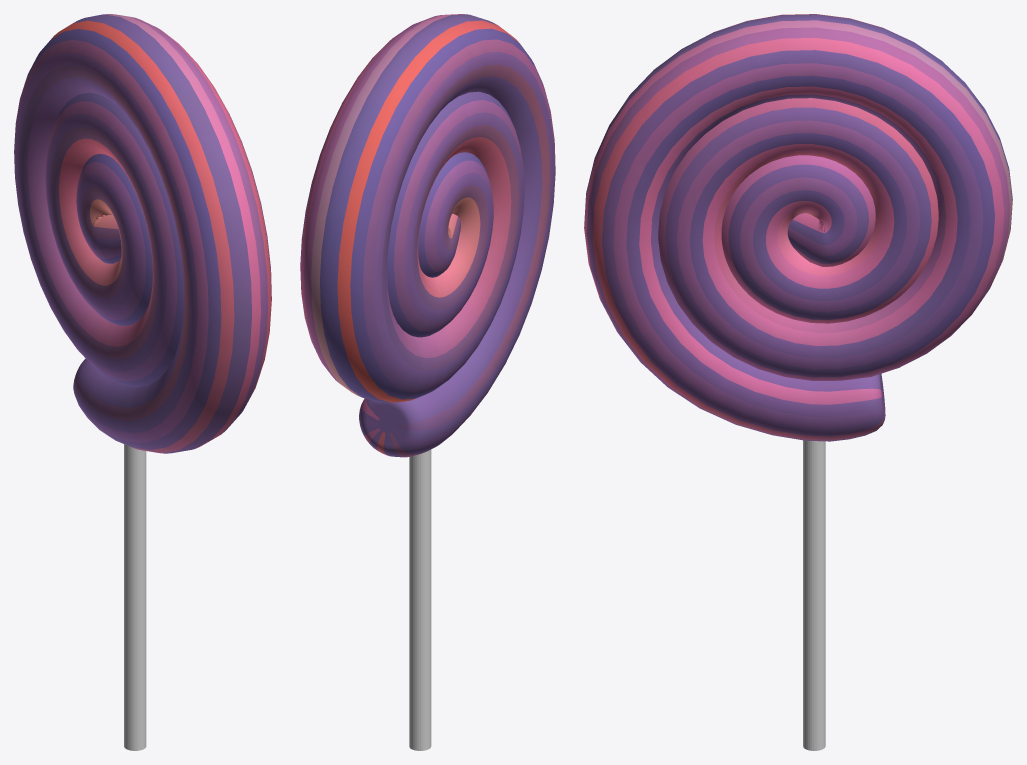
The model's file is lollipop.glb.
3 views of the same model, side by side, from view 1: azimuth 30°, elevation 25°; view 2: azimuth 150°, elevation 25°; view 3: azimuth 270°, elevation 25° (orthographic). The views are drawn at different scales.
Visible parts, largest first — view 1: Spiral, Spiral_1; view 2: Spiral, Spiral_1; view 3: Spiral, Spiral_1.
Boxes of the visible parts, <box> form: Spiral: <box>14,14,271,453</box>; Spiral_1: <box>124,444,146,750</box>; Spiral: <box>300,14,555,457</box>; Spiral_1: <box>409,449,431,750</box>; Spiral: <box>584,14,1012,441</box>; Spiral_1: <box>803,440,825,750</box>.
Size of the model in its own units: 1.5 by 13.39 by 7.15.
Materials: 2 (1 with a texture image).
